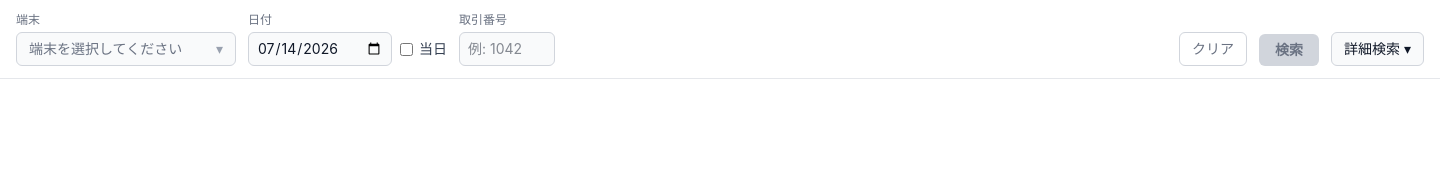
SearchBar › 「詳細検索」を開くと範囲入力が表示され、単一入力欄がグレーアウトする
Click the button "詳細検索 ▾": (1378, 49) [1331,32,1424,66]
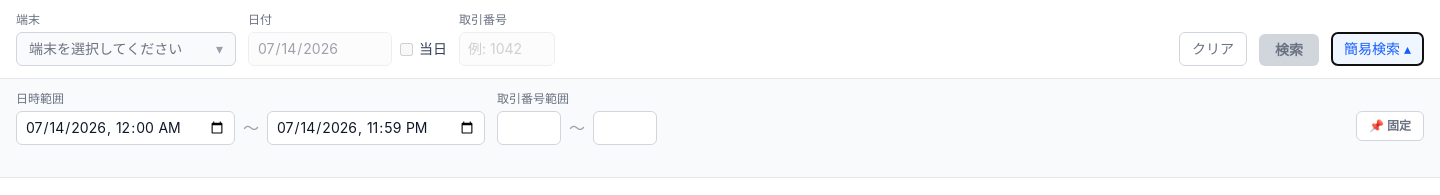
Result: the field named "日時範囲(開始)" is shown at [16,111,235,145]
Result: the field named "日時範囲(終了)" is shown at [267,111,485,145]
Result: the number field named "取引番号範囲(開始)" is shown at [497,111,561,145]
